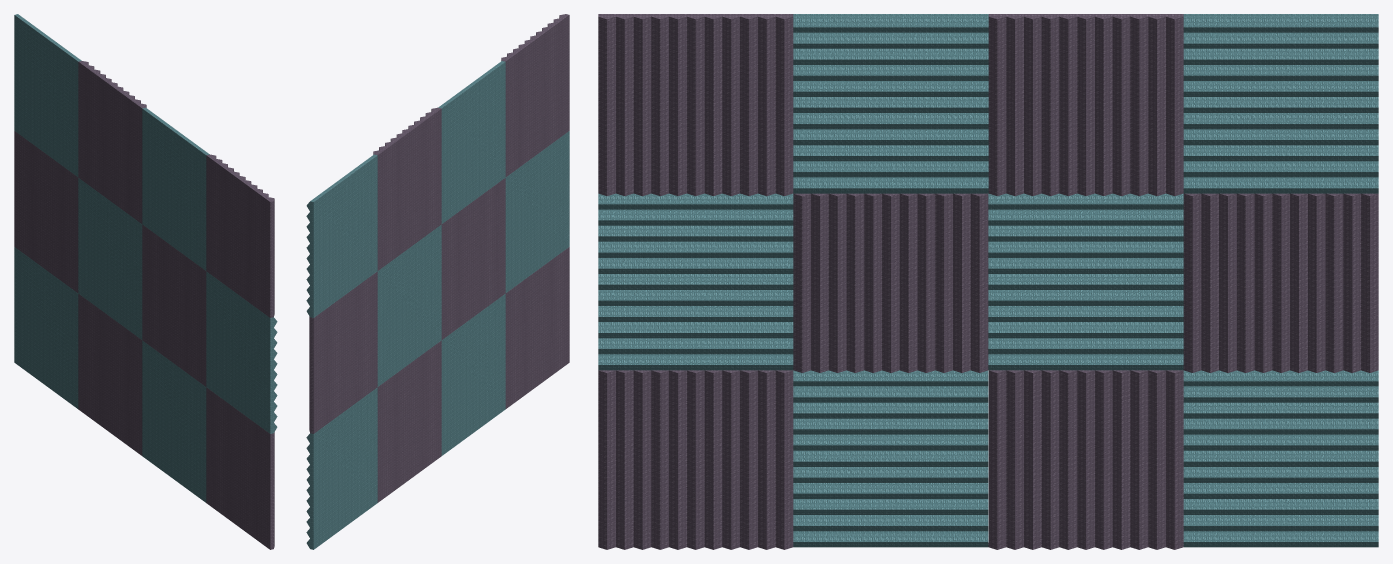
3 renders of one model, left to right at view 1: azimuth 30°, elevation 25°; view 2: azimuth 150°, elevation 25°; view 3: azimuth 270°, elevation 25°, orthographic. The views are drawn at different scales.
Parts seen in each view (by area): view 1: Cube; view 2: Cube; view 3: Cube.
Boxes of the visible parts, x1=… form: Cube: x1=14, y1=14, x2=277, y2=549; Cube: x1=306, y1=14, x2=569, y2=549; Cube: x1=598, y1=14, x2=1378, y2=549.
Bounding box in the file's own units: 0.0392 × 1.8 × 2.4.
Materials: 1 (1 with a texture image).
